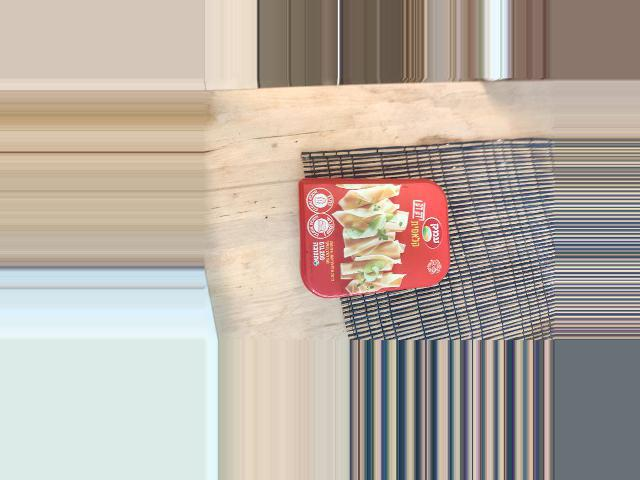cheese: (360, 184, 502, 339)
